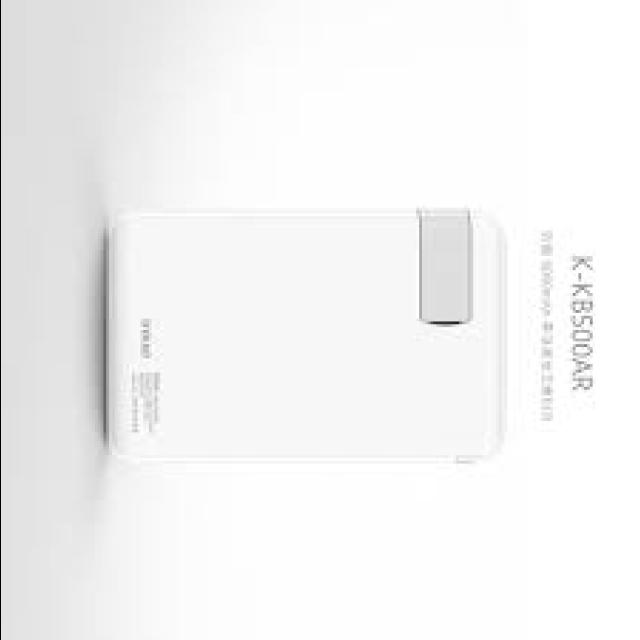power_bank: (94, 210, 512, 474)
